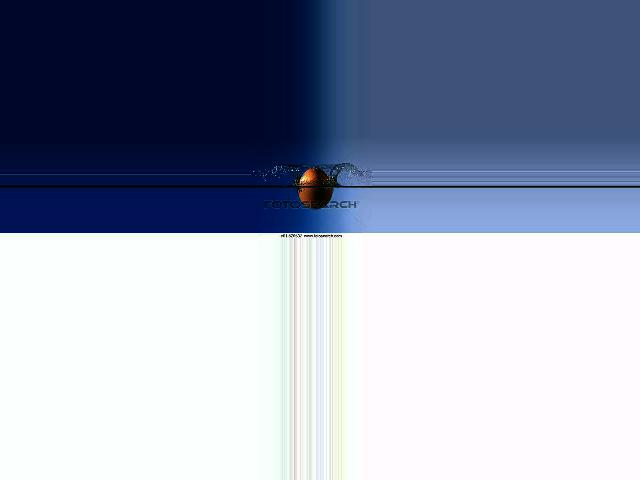egg: (298, 167, 333, 209)
